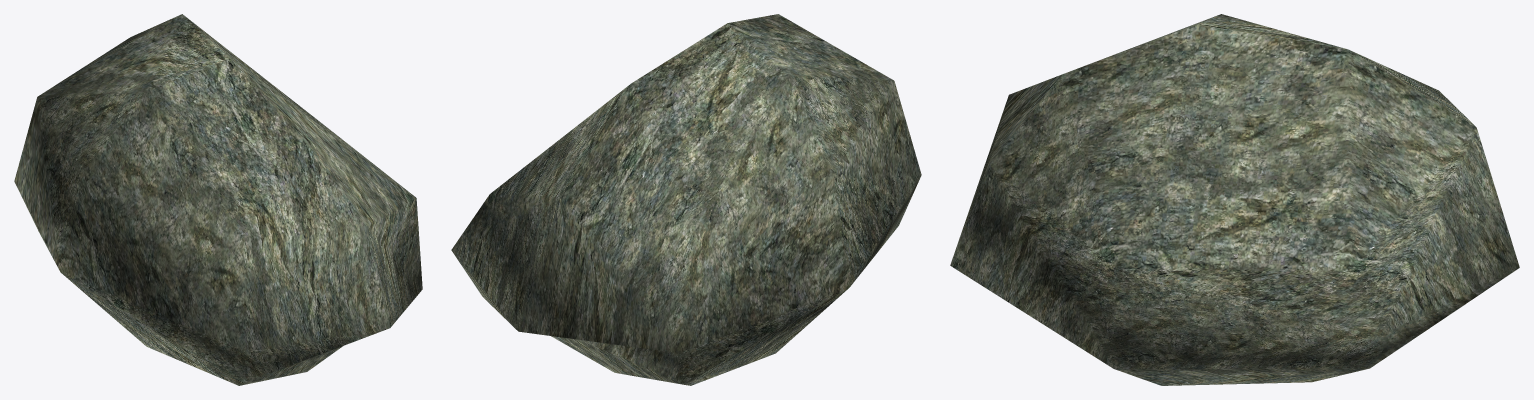
Rendered from mtns_rock_grey_a1_l1.fbx.
3 views of the same model, side by side, from view 1: azimuth 30°, elevation 25°; view 2: azimuth 150°, elevation 25°; view 3: azimuth 270°, elevation 25° (orthographic). The views are drawn at different scales.
Parts seen in each view (by area): view 1: mesh_node; view 2: mesh_node; view 3: mesh_node.
Boxes of the visible parts, left/top/right/bottom form: mesh_node: left=14, top=14, right=422, bottom=385; mesh_node: left=451, top=14, right=921, bottom=385; mesh_node: left=950, top=14, right=1519, bottom=385.
Bounding box in the file's own units: 1.37 × 1.17 × 1.93.
Materials: 1 (1 with a texture image).
